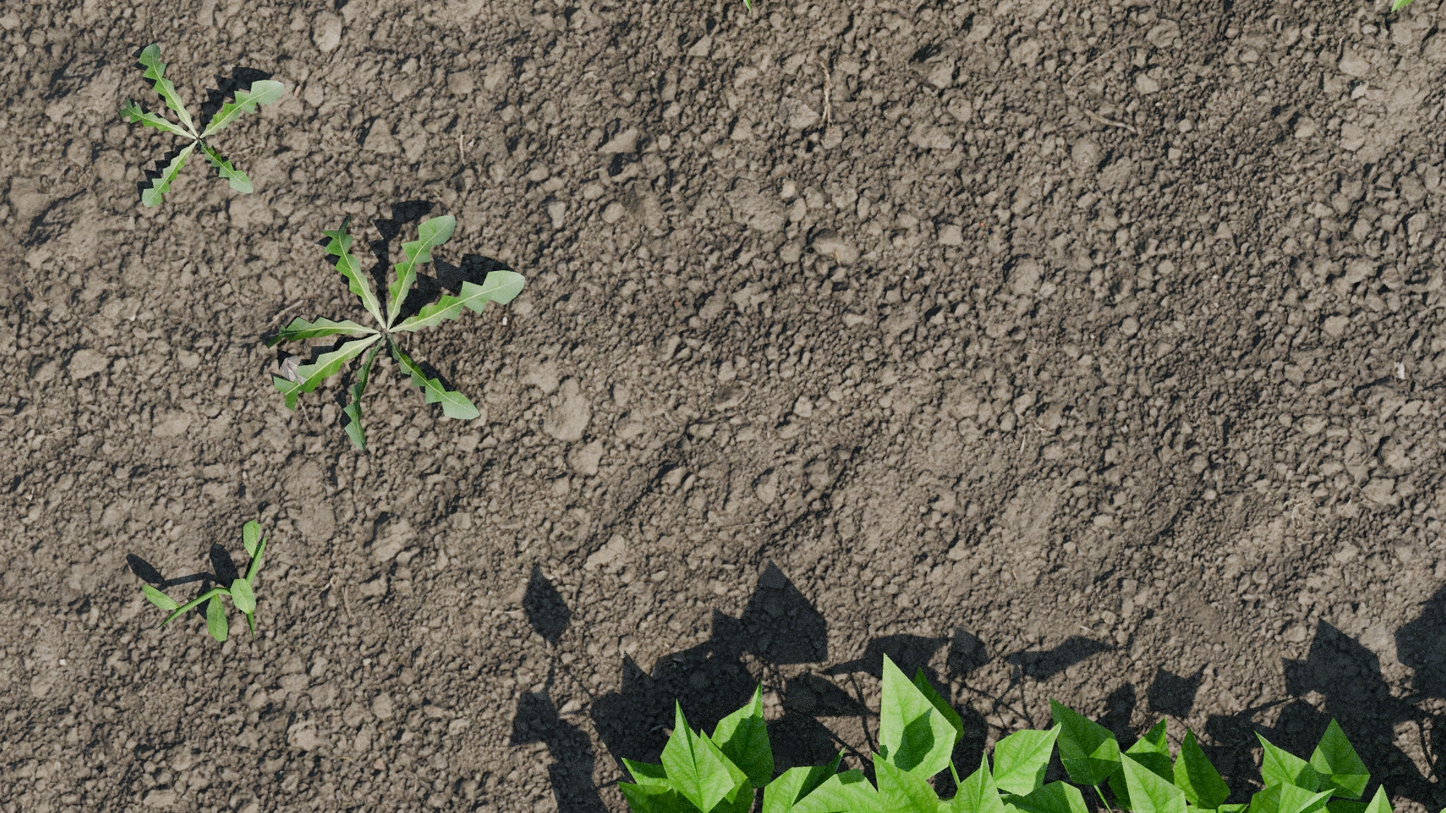crop: (617, 653, 1397, 813), (1391, 0, 1414, 12), (744, 0, 751, 12)
weed: (265, 215, 525, 452), (120, 44, 284, 207), (142, 520, 267, 642)
